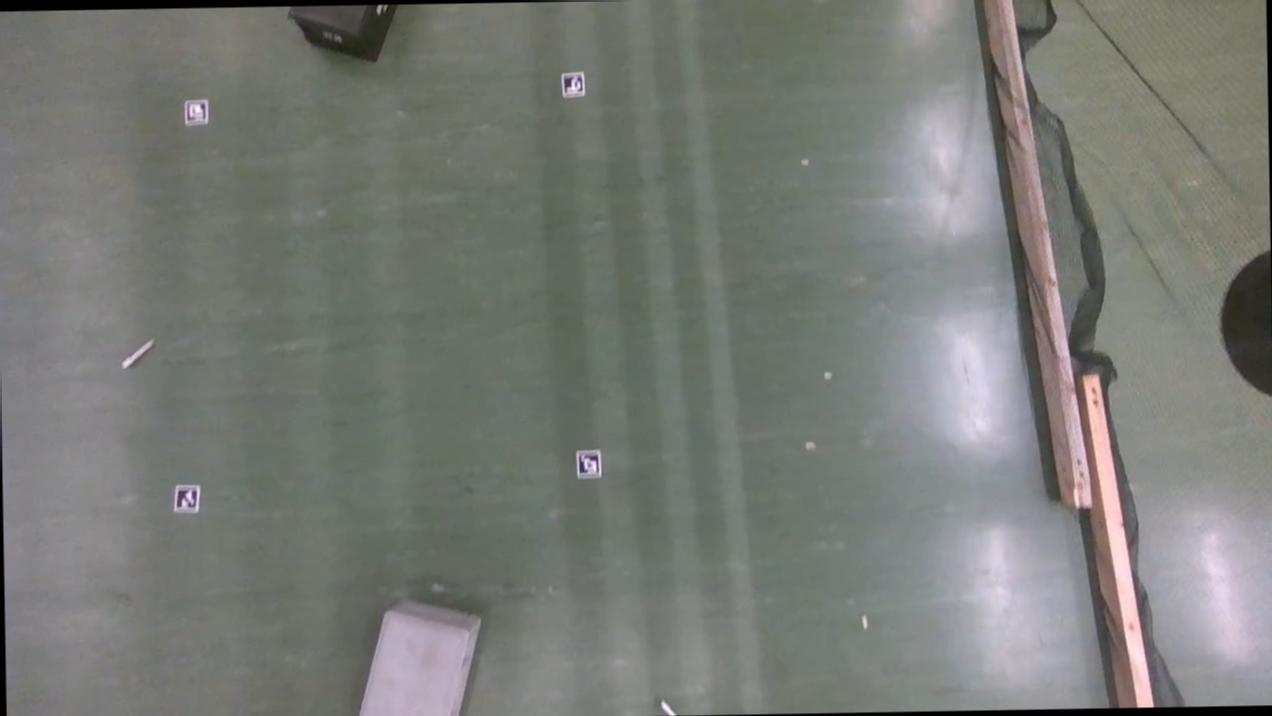probes: (120, 334, 158, 370)
rako: (350, 591, 487, 716)
